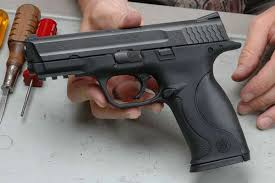gun: (24, 10, 253, 172)
